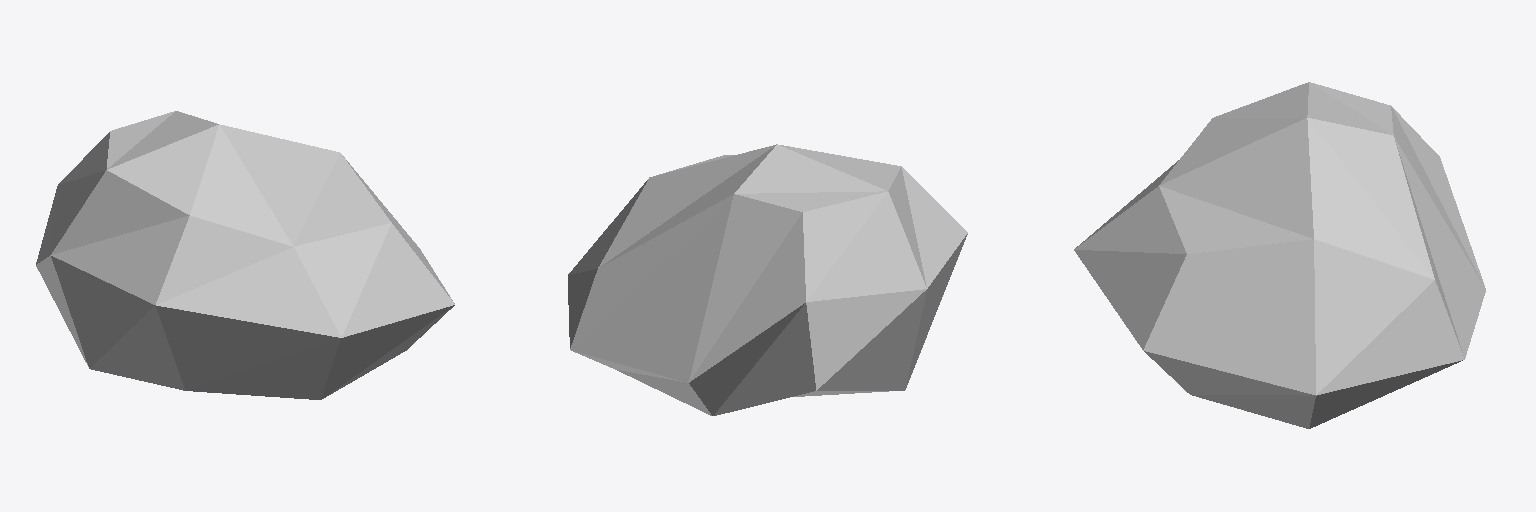
The model's file is SmallRock02_collider.obj.
3 views of the same model, side by side, from view 1: azimuth 30°, elevation 25°; view 2: azimuth 150°, elevation 25°; view 3: azimuth 270°, elevation 25° (orthographic).
Visible parts, largest first — view 1: SmallRock02_collider SmallRock02 SmallRocks; view 2: SmallRock02_collider SmallRock02 SmallRocks; view 3: SmallRock02_collider SmallRock02 SmallRocks.
Boxes of the visible parts, x1=… form: SmallRock02_collider SmallRock02 SmallRocks: x1=36, y1=111, x2=454, y2=399; SmallRock02_collider SmallRock02 SmallRocks: x1=568, y1=144, x2=967, y2=415; SmallRock02_collider SmallRock02 SmallRocks: x1=1074, y1=82, x2=1485, y2=428.
Bounding box in the file's own units: 162 × 108 × 158.